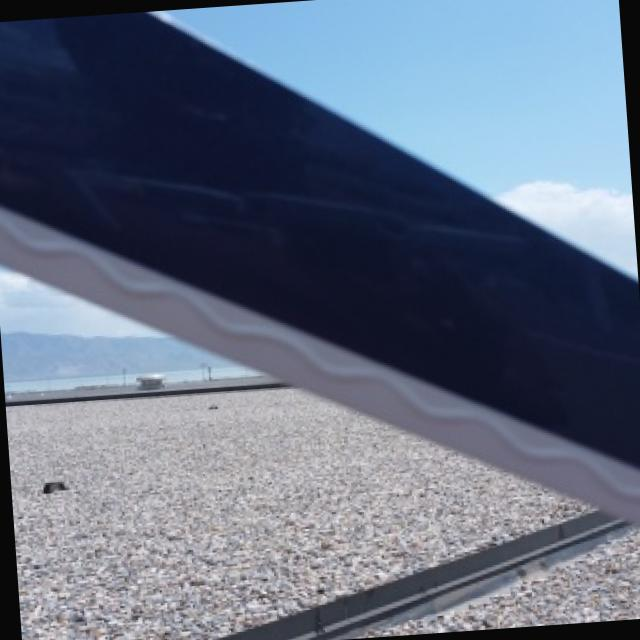healthy: (0, 11, 640, 519)
